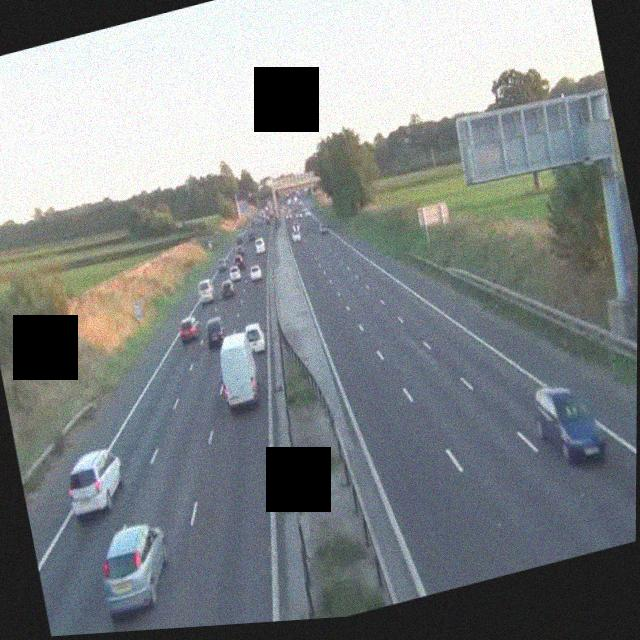car: (93, 517, 178, 620), (530, 374, 608, 474), (61, 445, 127, 520), (213, 329, 262, 412), (175, 313, 202, 345), (202, 315, 227, 349), (245, 324, 267, 356), (196, 279, 216, 306), (219, 276, 237, 301), (246, 262, 263, 284), (232, 253, 248, 274), (217, 252, 232, 271), (253, 237, 267, 255), (291, 226, 303, 242), (319, 221, 329, 236), (234, 232, 244, 246)
